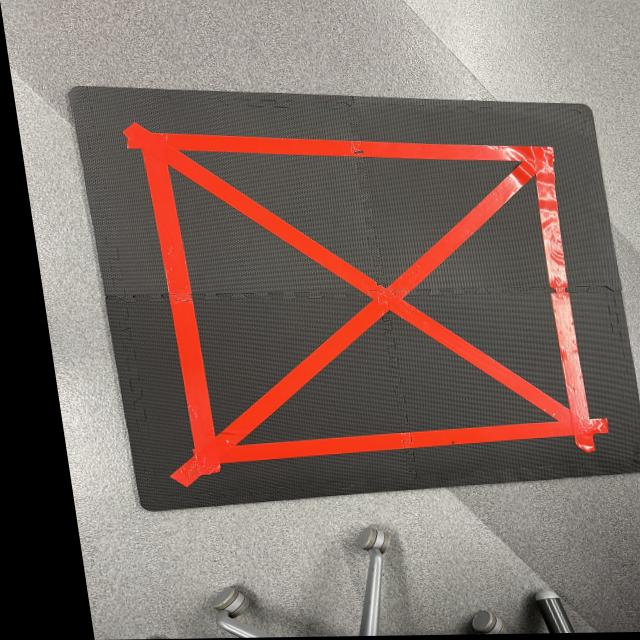landingPads: (67, 79, 640, 515)
